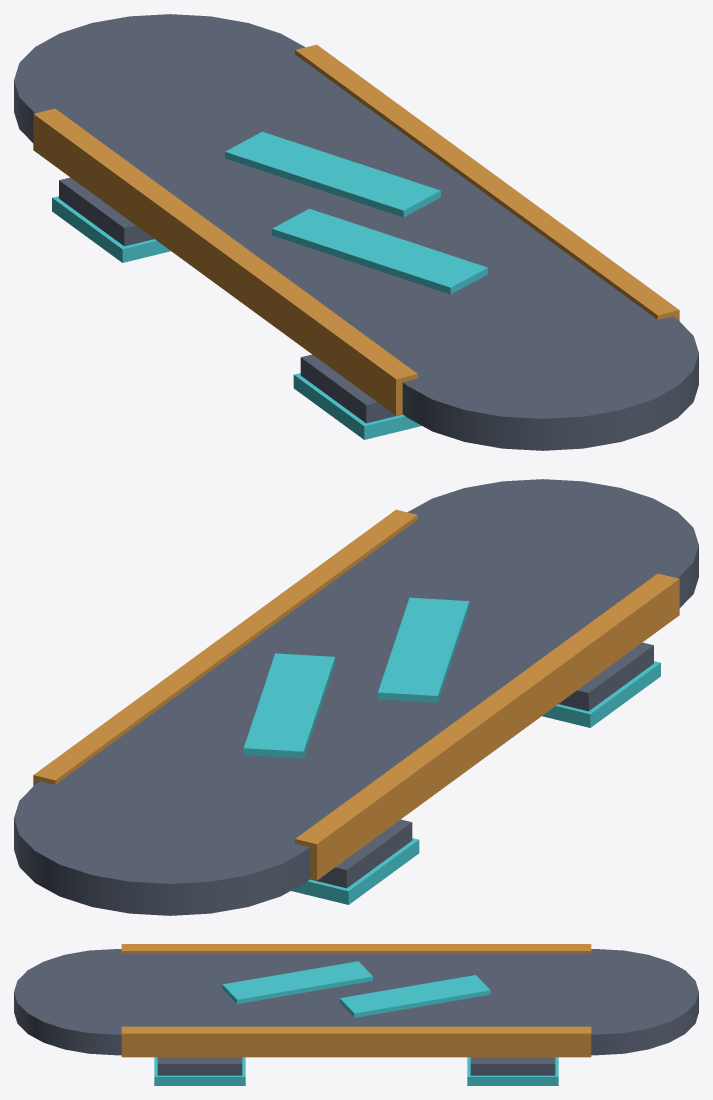
Rendered from 02_hoverboard_cyberglider.glb.
3 views of the same model, one above another, from view 1: azimuth 30°, elevation 25°; view 2: azimuth 150°, elevation 25°; view 3: azimuth 270°, elevation 25° (orthographic). The views are drawn at different scales.
Visible parts, largest first — view 1: HoverboardCyberGlider; view 2: HoverboardCyberGlider; view 3: HoverboardCyberGlider.
Part boxes in pixels (x1,y1,x2,y2): HoverboardCyberGlider: (14,14,698,450); HoverboardCyberGlider: (14,479,698,915); HoverboardCyberGlider: (14,944,698,1085).
Size of the model in its own units: 0.68 by 0.175 by 2.1.
